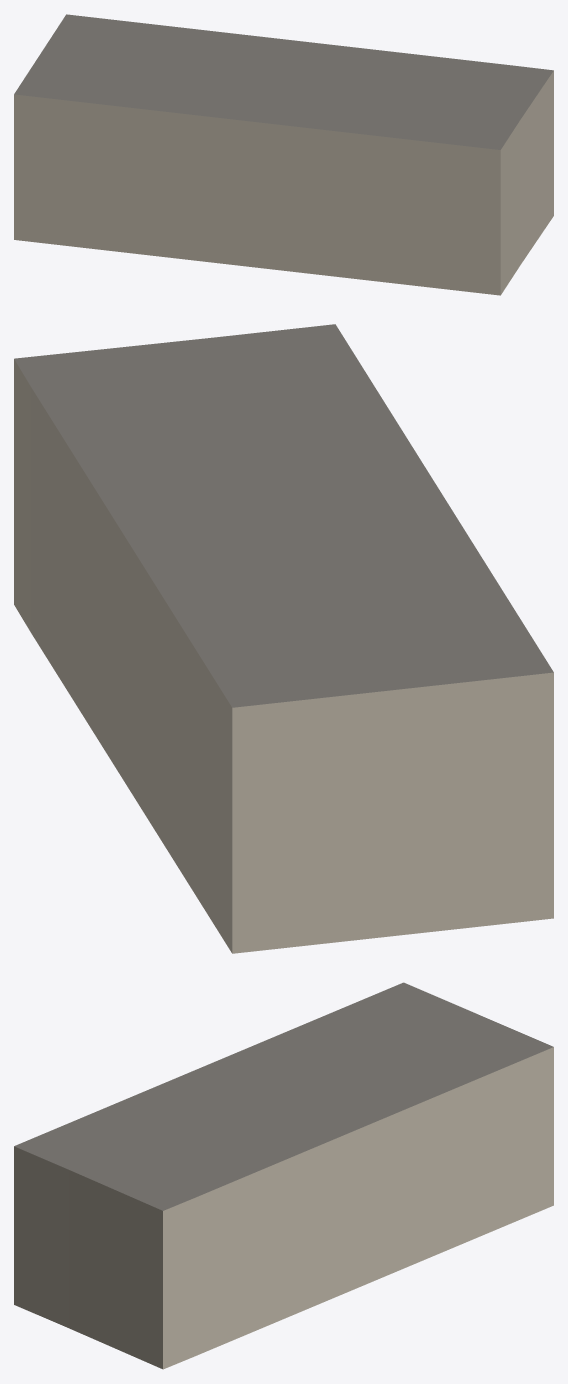
The picture shows the model from 3 angles, top to bottom: view 1: azimuth 30°, elevation 25°; view 2: azimuth 150°, elevation 25°; view 3: azimuth 270°, elevation 25°; orthographic projection. The views are drawn at different scales.
Parts seen in each view (by area): view 1: HP-w515758765; view 2: HP-w515758765; view 3: HP-w515758765.
Part boxes in pixels (x1,y1,x2,y2): HP-w515758765: (14, 14, 553, 295); HP-w515758765: (14, 324, 553, 953); HP-w515758765: (14, 982, 553, 1369).
Size of the model in its own units: 55.64 by 18 by 55.56.
